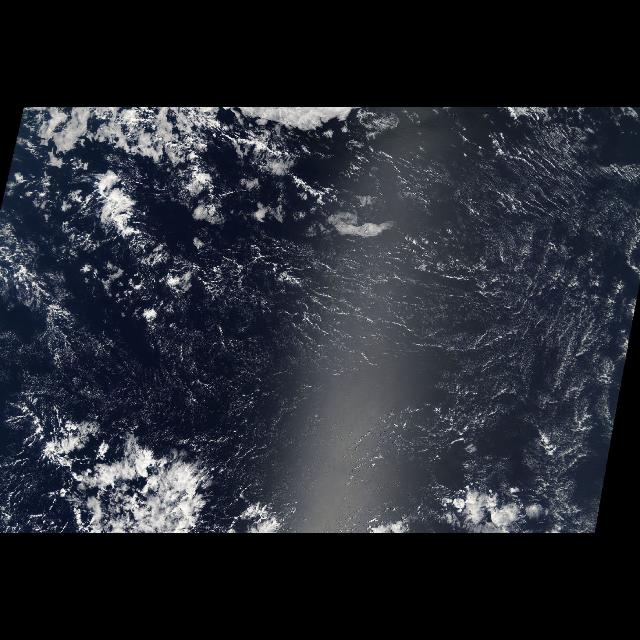Sugar: (92, 115, 630, 469)
